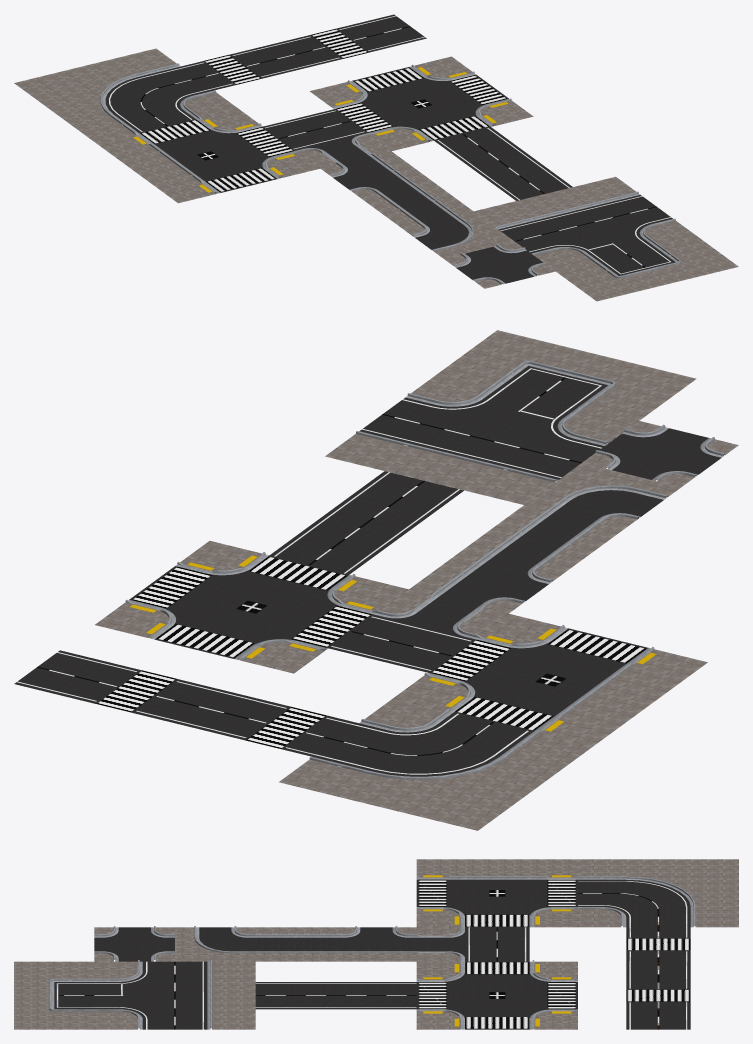
The model's file is RoadUnit.glb.
3 views of the same model, one above another, from view 1: azimuth 30°, elevation 25°; view 2: azimuth 150°, elevation 25°; view 3: azimuth 270°, elevation 25° (orthographic). The views are drawn at different scales.
Visible parts, largest first — view 1: RoadUnit_T-Junction, RoadUnit_Crossroad, RoadUnit_Corner, RoadUnit_T-junction_2, RoadUnit_Half_End, Road_TwoLane_20m_PedestrianCrossing, Road_TwoLane_20m, RoadUnit_Half_Crossroad, RoadUnit_Half_Corner, RoadUnit_Half_Straight, RoadUnit_Half_T-junction, Road_TwoLane_10m (+2 smaller); view 2: RoadUnit_Corner, RoadUnit_Crossroad, RoadUnit_T-Junction, RoadUnit_T-junction_2, RoadUnit_Half_End, Road_TwoLane_20m_PedestrianCrossing, Road_TwoLane_20m, RoadUnit_Half_Crossroad, RoadUnit_Half_T-junction, RoadUnit_Half_Straight, RoadUnit_Half_Corner, Road_TwoLane_10m_PedestrianCrossing (+2 smaller); view 3: RoadUnit_Crossroad, RoadUnit_T-junction_2, RoadUnit_T-Junction, RoadUnit_Corner, RoadUnit_Half_End, Road_TwoLane_20m, Road_TwoLane_20m_PedestrianCrossing, RoadUnit_Half_Straight, RoadUnit_Half_T-junction, RoadUnit_Half_Corner, RoadUnit_Half_Crossroad, Road_TwoLane_10m (+2 smaller).
Part boxes in pixels (<box>): RoadUnit_T-Junction: <box>96,108,319,203</box>; RoadUnit_Crossroad: <box>310,56,533,151</box>; RoadUnit_Corner: <box>14,48,237,142</box>; RoadUnit_T-junction_2: <box>474,176,697,271</box>; RoadUnit_Half_End: <box>556,237,738,301</box>; Road_TwoLane_20m_PedestrianCrossing: <box>252,14,426,72</box>; Road_TwoLane_20m: <box>435,127,572,200</box>; RoadUnit_Half_Crossroad: <box>444,241,555,288</box>; RoadUnit_Half_Corner: <box>403,211,514,258</box>; RoadUnit_Half_Straight: <box>362,181,473,228</box>; RoadUnit_Half_T-junction: <box>321,151,431,198</box>; Road_TwoLane_10m: <box>263,109,366,150</box>; RoadUnit_Corner: <box>279,698,592,830</box>; RoadUnit_Crossroad: <box>95,541,408,673</box>; RoadUnit_T-Junction: <box>394,614,707,746</box>; RoadUnit_T-junction_2: <box>325,372,638,504</box>; RoadUnit_Half_End: <box>440,330,696,420</box>; Road_TwoLane_20m_PedestrianCrossing: <box>14,650,258,732</box>; Road_TwoLane_20m: <box>270,471,463,574</box>; RoadUnit_Half_Crossroad: <box>582,421,738,487</box>; RoadUnit_Half_T-junction: <box>409,547,565,613</box>; RoadUnit_Half_Straight: <box>467,505,623,571</box>; RoadUnit_Half_Corner: <box>524,463,680,529</box>; Road_TwoLane_10m_PedestrianCrossing: <box>214,699,358,756</box>; RoadUnit_Crossroad: <box>416,960,577,1029</box>; RoadUnit_T-junction_2: <box>94,960,255,1029</box>; RoadUnit_T-Junction: <box>416,859,577,927</box>; RoadUnit_Corner: <box>578,859,738,927</box>; RoadUnit_Half_End: <box>14,961,94,1029</box>; Road_TwoLane_20m: <box>255,982,416,1009</box>; Road_TwoLane_20m_PedestrianCrossing: <box>626,961,690,1029</box>; RoadUnit_Half_Straight: <box>255,927,336,961</box>; RoadUnit_Half_T-junction: <box>336,926,416,961</box>; RoadUnit_Half_Corner: <box>175,926,255,961</box>; RoadUnit_Half_Crossroad: <box>94,926,174,961</box>; Road_TwoLane_10m: <box>465,927,529,961</box>.
Size of the model in its own units: 50 by 0.2 by 89.99.
Materials: 5 (5 with a texture image).
